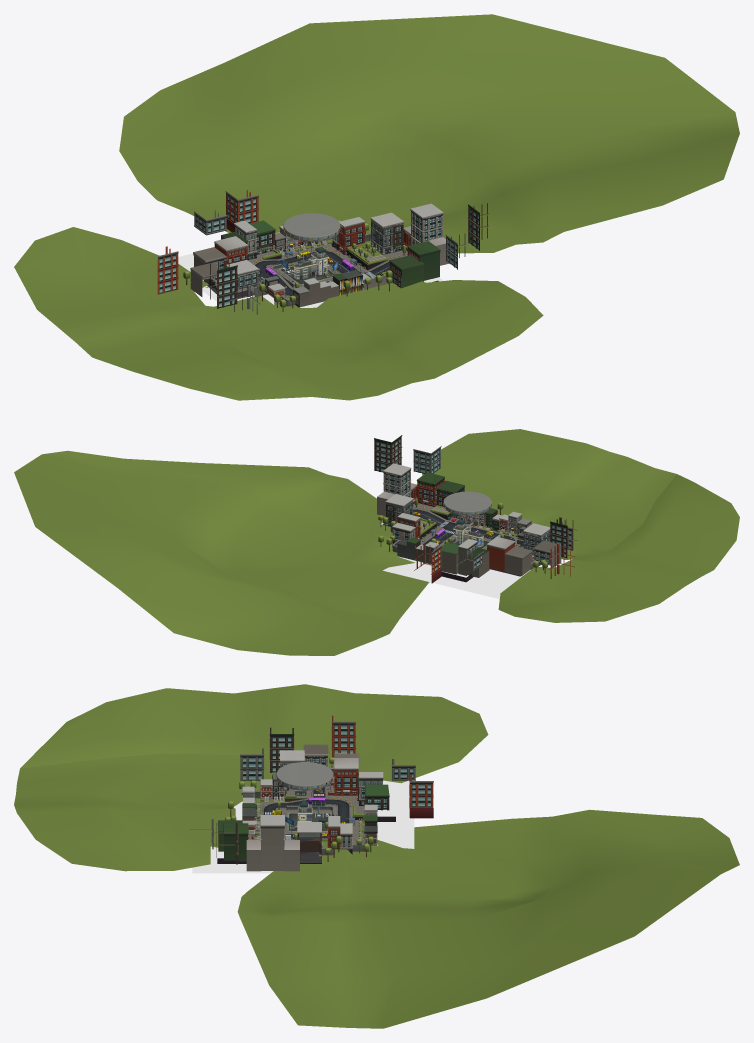
File: compressed_invasion.glb
3 renders of one model, top to bottom at view 1: azimuth 30°, elevation 25°; view 2: azimuth 150°, elevation 25°; view 3: azimuth 270°, elevation 25°, orthographic. The views are drawn at different scales.
Visible parts, largest first — view 1: Background_Building_1, UFO, gbase_01, Police_Station_Ground; view 2: Background_Building_1, Minimap_StaticMeshComponent0, UFO, gbase_01, Police_Station_Ground; view 3: Background_Building_1, Minimap_StaticMeshComponent0, gbase_01, UFO, Police_Station_Ground.
Part boxes in pixels (bbox=[...]): Background_Building_1: bbox=[14, 14, 739, 400]; UFO: bbox=[283, 213, 340, 241]; gbase_01: bbox=[206, 243, 438, 299]; Police_Station_Ground: bbox=[271, 247, 334, 285]; Background_Building_1: bbox=[14, 429, 739, 655]; Minimap_StaticMeshComponent0: bbox=[383, 556, 549, 598]; UFO: bbox=[443, 491, 491, 515]; gbase_01: bbox=[413, 503, 533, 582]; Police_Station_Ground: bbox=[448, 519, 490, 549]; Background_Building_1: bbox=[14, 684, 739, 1028]; Minimap_StaticMeshComponent0: bbox=[192, 780, 414, 873]; gbase_01: bbox=[217, 776, 395, 863]; UFO: bbox=[276, 762, 333, 790]; Police_Station_Ground: bbox=[287, 794, 333, 831].
Bounding box in the file's own units: 542 × 56.46 × 472.
Materials: 9 (5 with a texture image).
